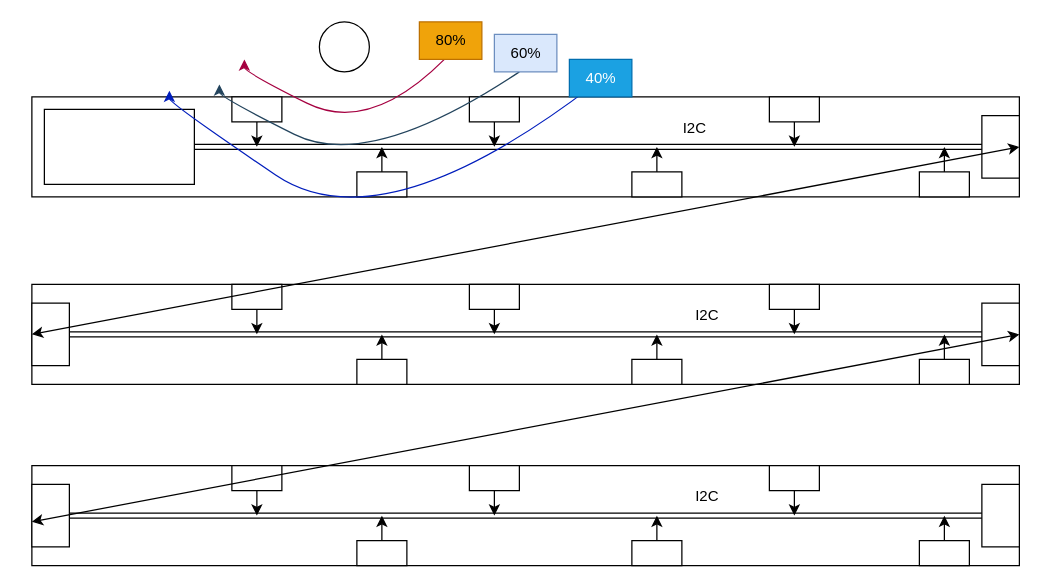
Image size: 1053x588. Some labels were removed from this diagram. The centre of each missing label's shape, as x and y in pixels:
"Magnet" belongs at (x=343, y=46).
"STM32" belongs at (x=118, y=146).
